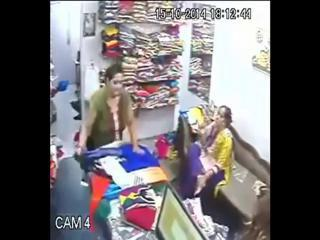Normal: (77, 64, 139, 165)
